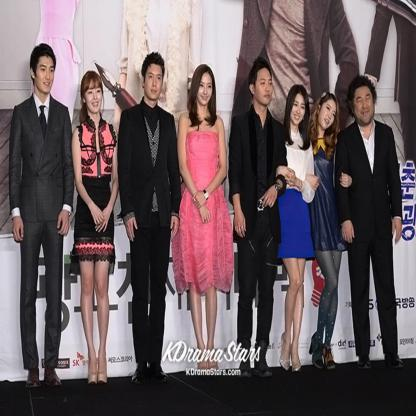face: (354, 88, 376, 125), (37, 55, 56, 94), (145, 64, 164, 101), (256, 69, 274, 106), (319, 99, 337, 131), (197, 73, 214, 106), (86, 83, 104, 114), (291, 94, 307, 126)
